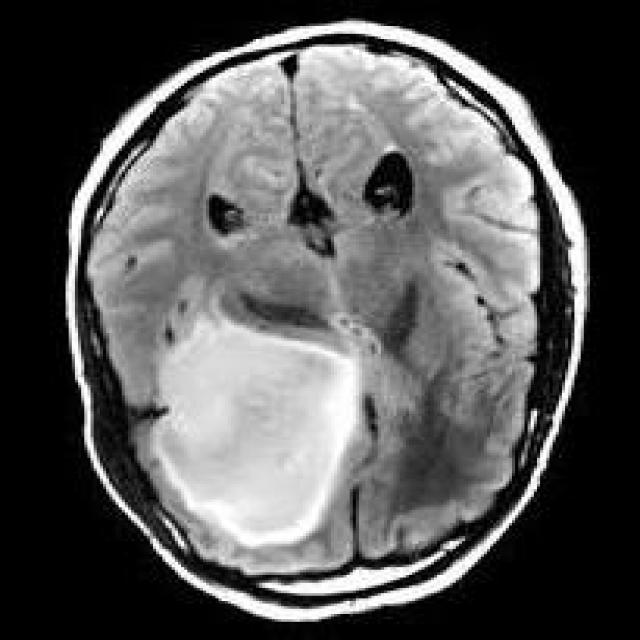brain tumor: (153, 304, 359, 549)
